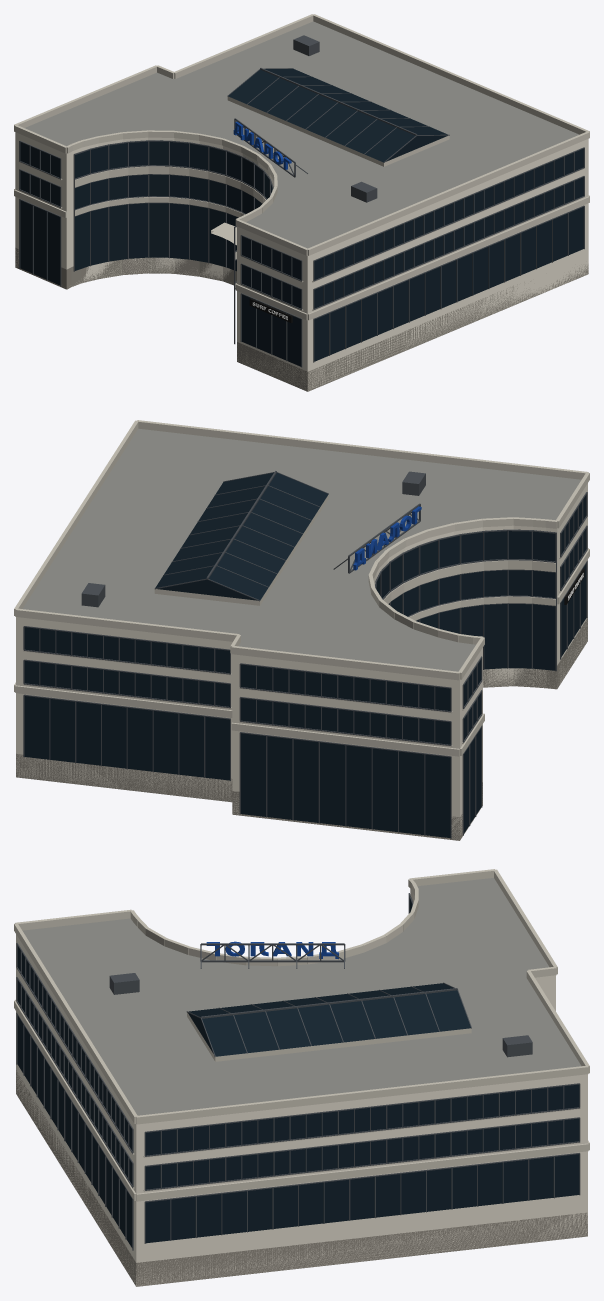
File: tc_dialog.glb
3 views of the same model, one above another, from view 1: azimuth 30°, elevation 25°; view 2: azimuth 150°, elevation 25°; view 3: azimuth 270°, elevation 25° (orthographic). The views are drawn at different scales.
Parts seen in each view (by area): view 1: tc_dialog_glass, tc_dialog_roof, tc_dialog_wall, tc_dialog_wall2, tc_dialog_metal, tc_dialog_stone, tc_dialog_letters; view 2: tc_dialog_glass, tc_dialog_roof, tc_dialog_wall2, tc_dialog_wall, tc_dialog_metal, tc_dialog_stone, tc_dialog_letters; view 3: tc_dialog_roof, tc_dialog_glass, tc_dialog_wall, tc_dialog_wall2, tc_dialog_metal, tc_dialog_stone, tc_dialog_letters.
Boxes of the visible parts, box(x1,y1,x2,y2) form: tc_dialog_glass: box(20, 68, 583, 366); tc_dialog_roof: box(24, 21, 578, 248); tc_dialog_wall: box(15, 132, 588, 390); tc_dialog_wall2: box(14, 14, 589, 320); tc_dialog_metal: box(19, 35, 584, 367); tc_dialog_stone: box(15, 247, 588, 391); tc_dialog_letters: box(233, 121, 291, 169); tc_dialog_glass: box(24, 472, 586, 838); tc_dialog_roof: box(22, 428, 581, 671); tc_dialog_wall2: box(14, 420, 589, 756); tc_dialog_wall: box(16, 483, 587, 840); tc_dialog_metal: box(23, 471, 587, 838); tc_dialog_stone: box(16, 618, 587, 840); tc_dialog_letters: box(353, 506, 421, 570); tc_dialog_roof: box(22, 878, 581, 1115); tc_dialog_glass: box(17, 898, 579, 1247); tc_dialog_wall: box(16, 889, 587, 1286); tc_dialog_wall2: box(14, 869, 589, 1201); tc_dialog_metal: box(16, 893, 580, 1250); tc_dialog_stone: box(16, 1070, 587, 1286); tc_dialog_letters: box(206, 941, 338, 958).
Bounding box in the file's own units: 53.25 × 18.76 × 52.15.
